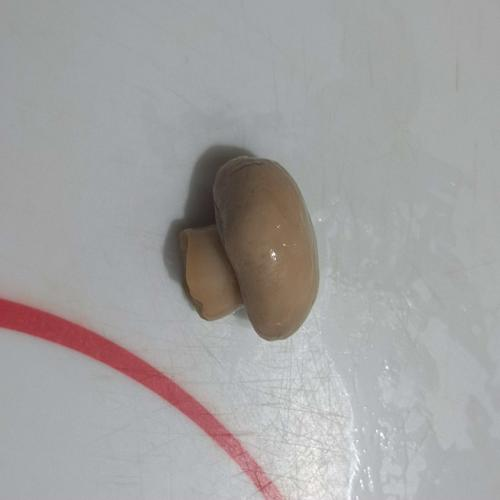Button Mushroom: (172, 150, 325, 348)
